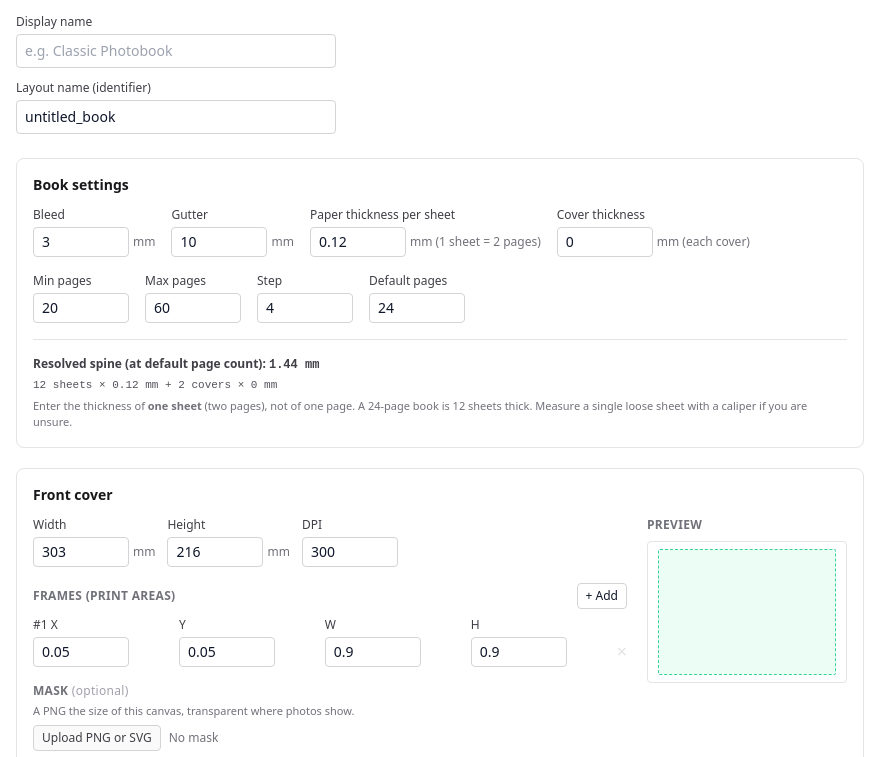
Test: BookLayoutEditor component › recomputes the resolved spine live as the default page count changes
This screenshot has width=881, height=757.
Replace the text in the number field labelled "Default pages" with "40" at coordinates (417, 308), box 369,293 -> 465,323
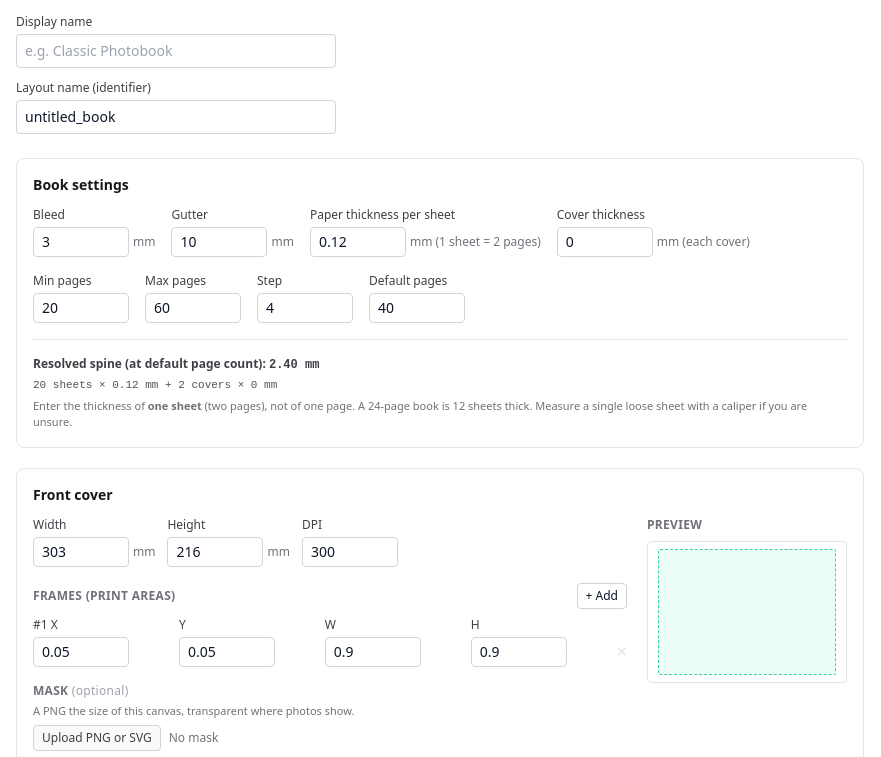
Expected: the element with test id "resolved-spine" shows "2.40 mm", 33,355 -> 319,372
